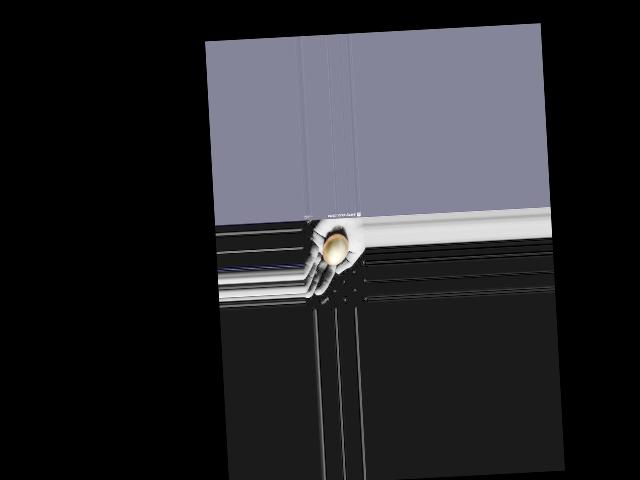egg: (321, 234, 348, 266)
